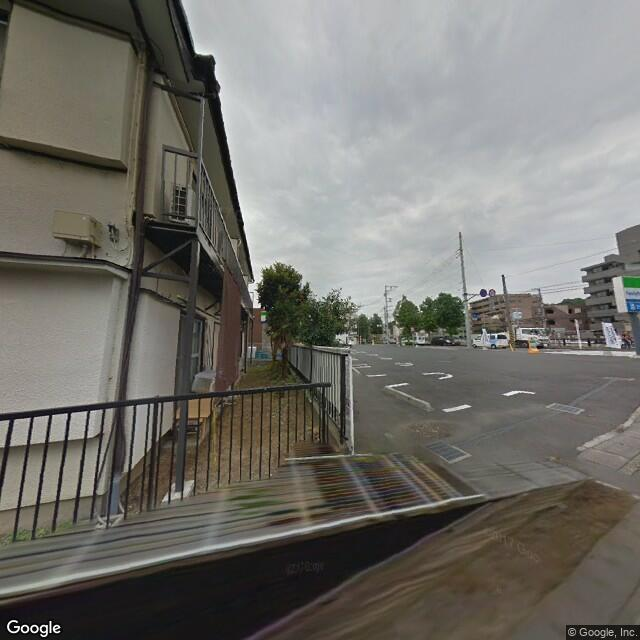family_mart: (618, 274, 640, 308)
